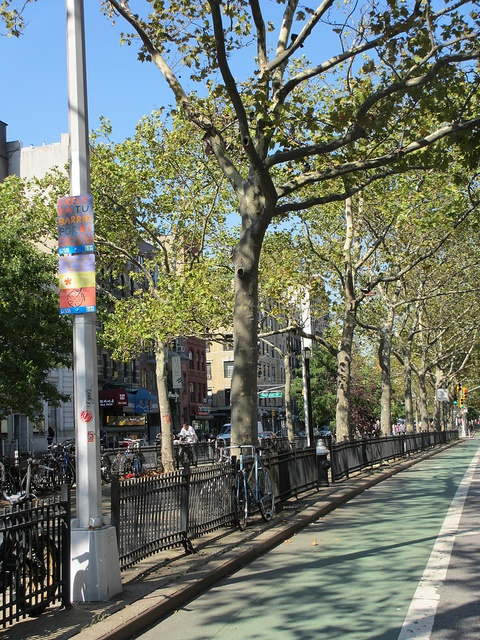non-vehicle: (0, 491, 60, 616), (223, 445, 274, 531), (50, 441, 74, 488), (117, 440, 142, 476), (123, 438, 144, 475), (173, 443, 194, 469), (2, 469, 18, 494)
